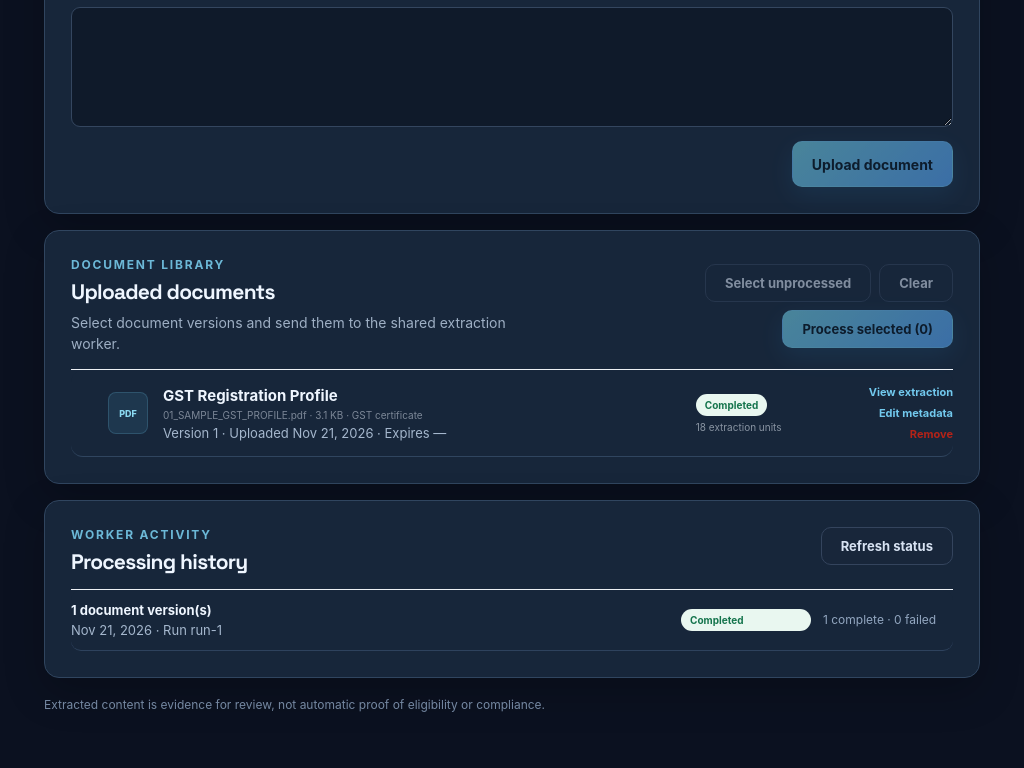
Scenario: Company document repository › shows completed processing and previews extracted text with its source page
The image size is (1024, 768).
(page scrolled)
Check: the text "GST Registration Profile" is shown, box [163,386,338,404]
Check: the text "18 extraction units" is shown, box [696,420,782,432]
Click the button "View extraction".
click(911, 392)  # box [869,385,953,399]
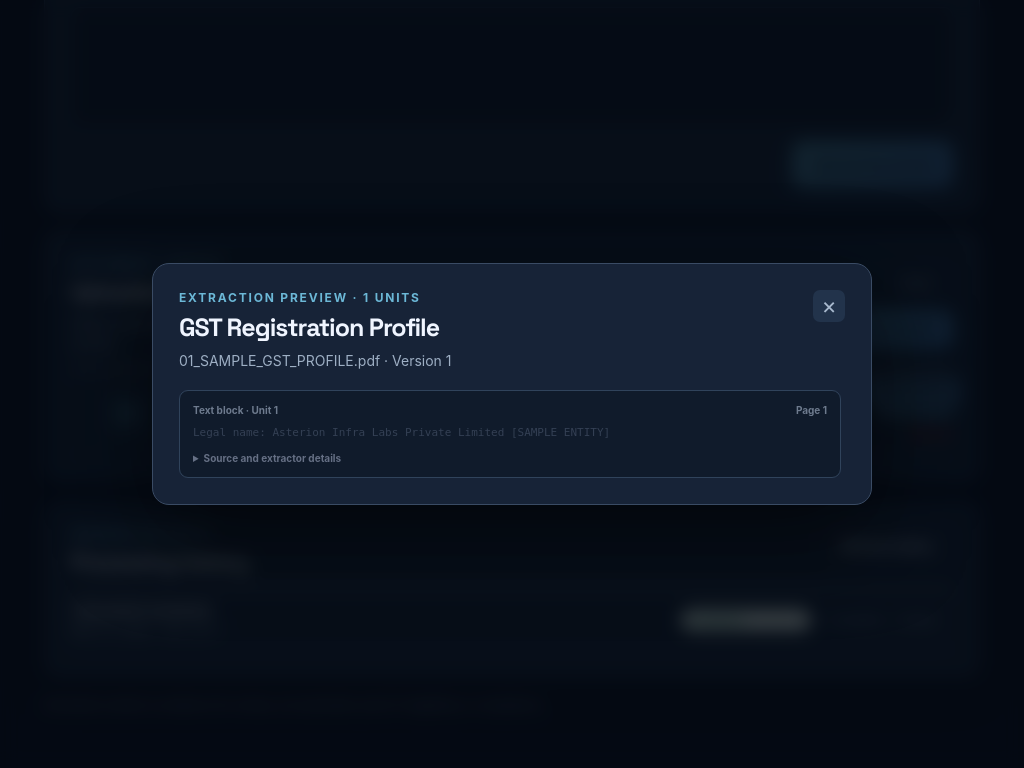
Check: the text "Legal name: Asterion Infra Labs" is shown, box [193,426,610,439]
Check: the text "Page 1" is shown, box [796,404,827,416]
